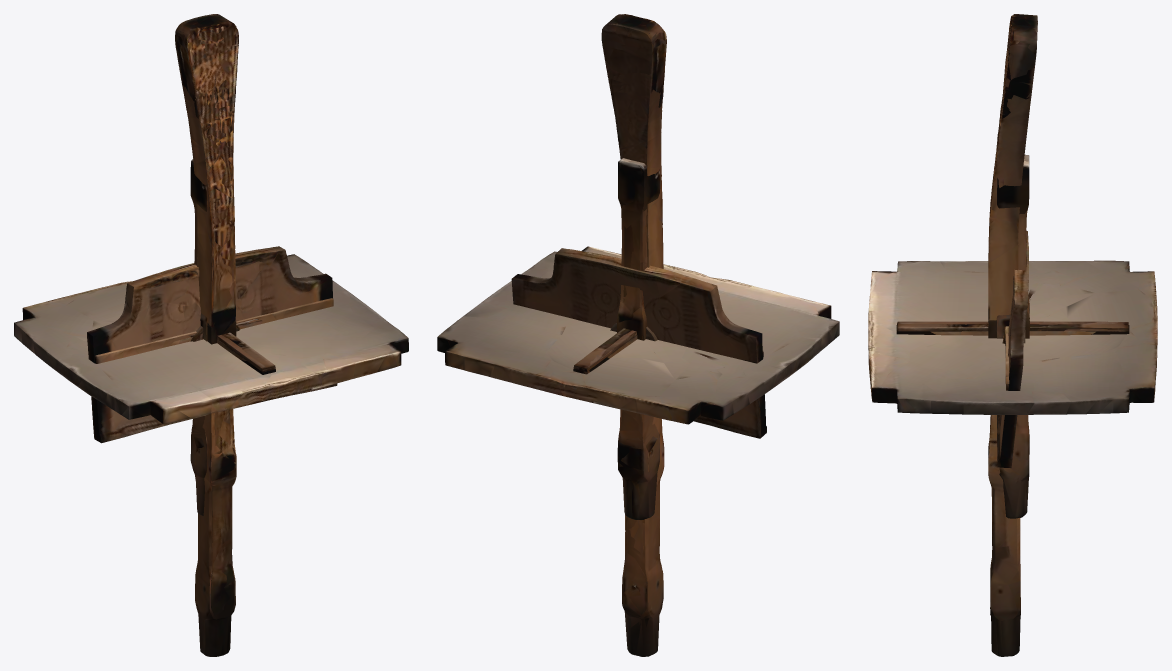
3 views of the same model, side by side, from view 1: azimuth 30°, elevation 25°; view 2: azimuth 150°, elevation 25°; view 3: azimuth 270°, elevation 25° (orthographic). The views are drawn at different scales.
Visible parts, largest first — view 1: root.0, root.2, root.1, root.3, root.6, root.4, root.5; view 2: root.0, root.1, root.2, root.3, root.4, root.5, root.11; view 3: root.0, root.3, root.1, root.5, root.2, root.4, root.11, root.12, root.19.
Boxes of the visible parts, box(x1,y1,x2,y2) form: root.0: box(14, 254, 408, 423); root.2: box(175, 14, 238, 656); root.1: box(87, 246, 337, 443); root.3: box(175, 14, 238, 655); root.6: box(95, 298, 333, 363); root.4: box(190, 197, 207, 515); root.5: box(190, 159, 207, 448); root.0: box(437, 246, 839, 424); root.1: box(511, 248, 766, 438); root.2: box(605, 14, 666, 656); root.3: box(601, 14, 666, 655); root.4: box(617, 158, 659, 519); root.5: box(617, 160, 660, 518); root.11: box(574, 328, 636, 368); root.0: box(868, 260, 1157, 414); root.3: box(988, 15, 1037, 656); root.1: box(997, 230, 1028, 467); root.5: box(996, 154, 1029, 518); root.2: box(988, 14, 1037, 643); root.4: box(997, 157, 1029, 492); root.11: box(897, 322, 1128, 331); root.12: box(897, 321, 1128, 331); root.19: box(896, 325, 1129, 335).
Bounding box in the file's own units: 15968 × 32955 × 13726.
1 material, 1 textured.
